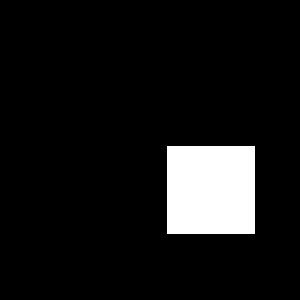circle: (167, 146, 255, 234)
